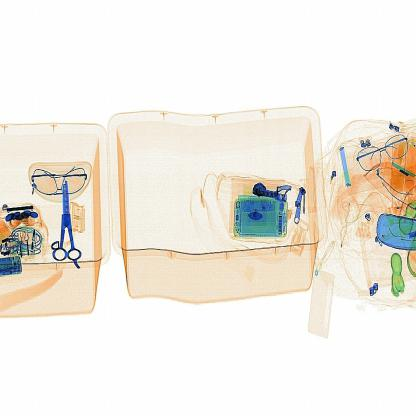gun: (45, 170, 90, 274)
